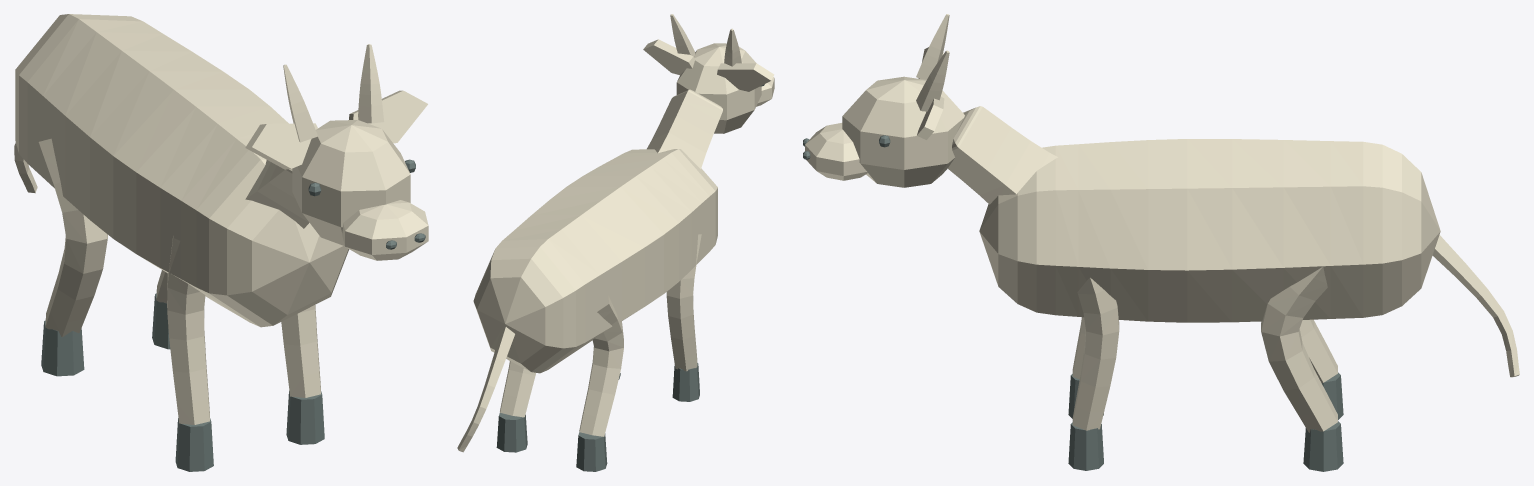
The model's file is dairy-goat-kid.glb.
The picture shows the model from 3 angles, left to right: view 1: azimuth 30°, elevation 25°; view 2: azimuth 150°, elevation 25°; view 3: azimuth 270°, elevation 25°; orthographic projection. The views are drawn at different scales.
Parts seen in each view (by area): view 1: dairy-goat-kid; view 2: dairy-goat-kid; view 3: dairy-goat-kid.
Part boxes in pixels (box(x1,y1,x2,y2)): dairy-goat-kid: box(14, 14, 428, 471); dairy-goat-kid: box(457, 14, 774, 471); dairy-goat-kid: box(803, 14, 1519, 471).
Bounding box in the file's own units: 0.3399 × 0.8215 × 1.31.
